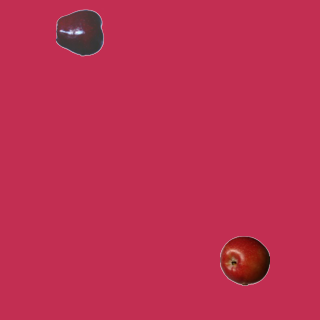Apple Braeburn: (219, 235, 269, 285)
Apple Red Delicious: (55, 7, 105, 57)
